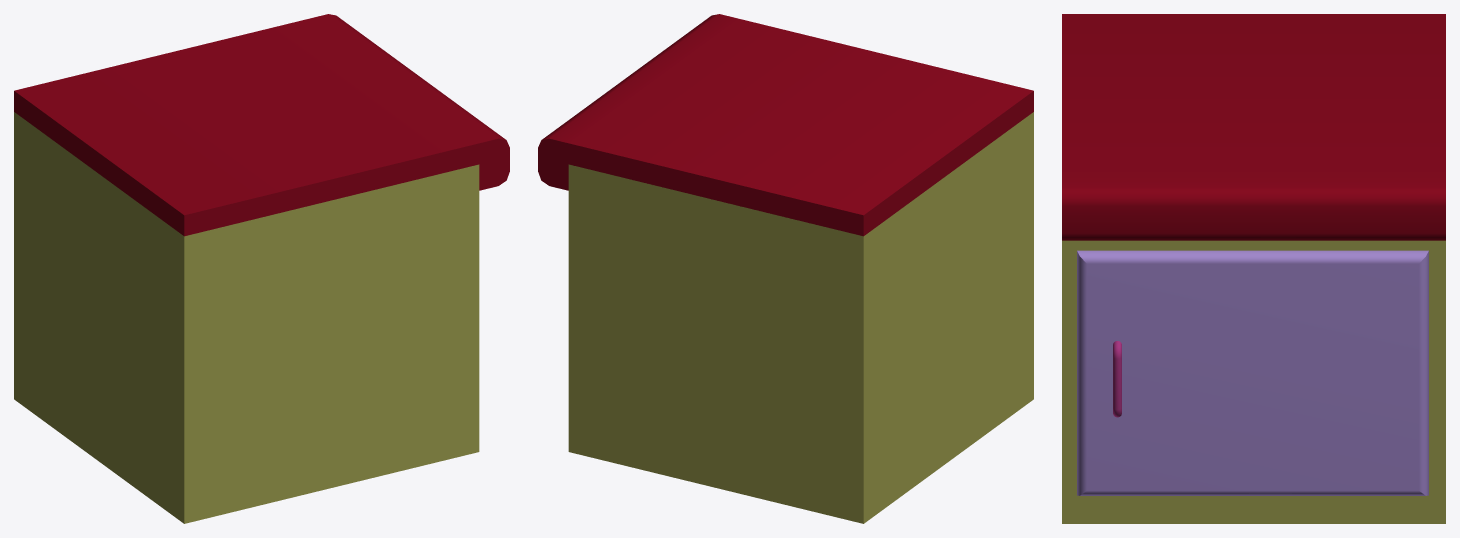
The model's file is NewCounter2.fbx.
3 renders of one model, left to right at view 1: azimuth 30°, elevation 25°; view 2: azimuth 150°, elevation 25°; view 3: azimuth 270°, elevation 25°, orthographic. The views are drawn at different scales.
Parts seen in each view (by area): view 1: CounterTwo; view 2: CounterTwo; view 3: CounterTwo.
Boxes of the visible parts, x1=… form: CounterTwo: x1=14, y1=14, x2=509, y2=523; CounterTwo: x1=538, y1=14, x2=1033, y2=523; CounterTwo: x1=1062, y1=14, x2=1445, y2=523.
Size of the model in its own units: 2175 by 1970 by 1970.
